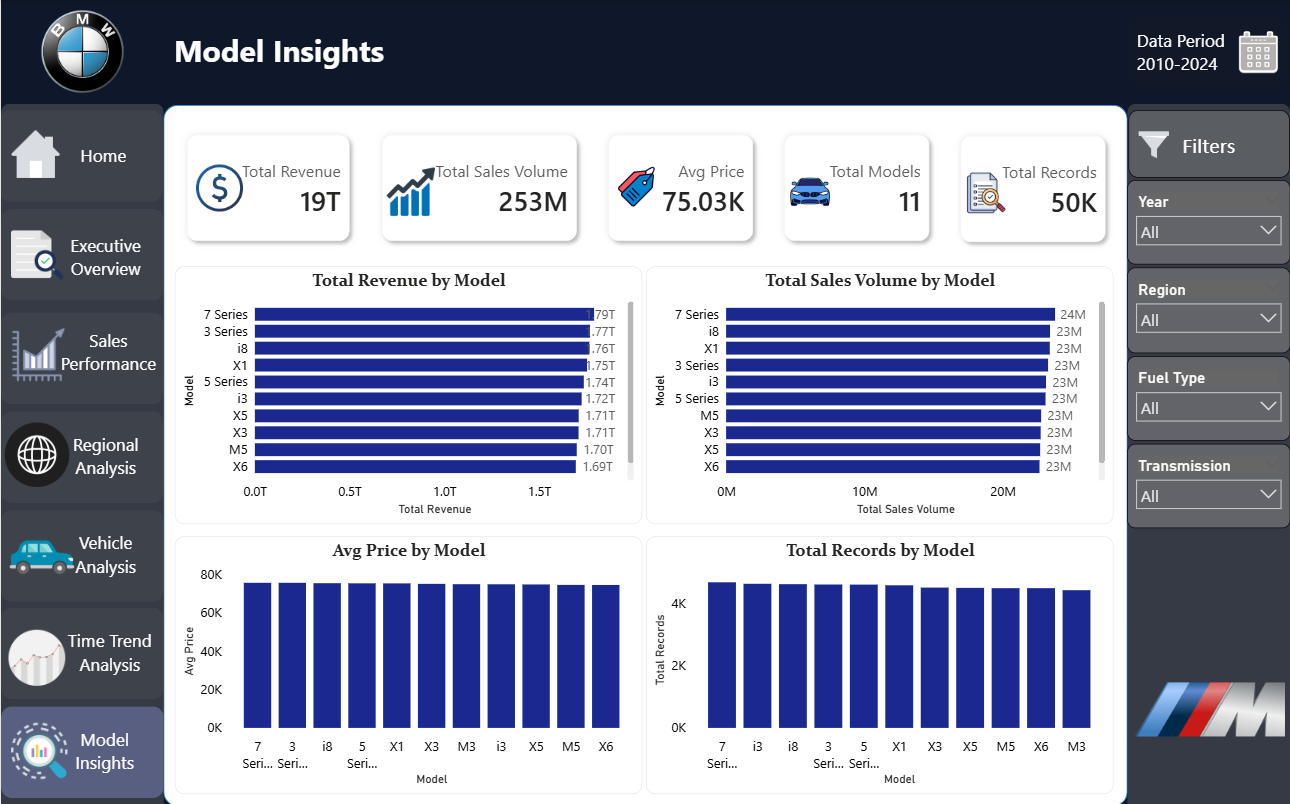

This screenshot's page, from the dashboard's own definition file:
{"tool":"powerbi","page":{"name":"Model Insights","canvas":[1600,1000],"ordinal":6},"visuals":[{"type":"shape","box":[1398,18,200,92],"z":0,"group":"g14"},{"type":"shape","box":[1398,128,202,872],"z":0},{"type":"shape","box":[0,258.8,202,114],"z":0,"group":"g7"},{"type":"shape","box":[-0.3,387.9,202,114],"z":0,"group":"g3"},{"type":"shape","box":[0,510,202,114],"z":0,"group":"g4"},{"type":"shape","box":[0,875.8,202,114],"z":0,"group":"g1"},{"type":"image","box":[1528,38,64,52],"z":1000,"group":"g14"},{"type":"shape","box":[202,130,1196,870],"z":1000},{"type":"actionButton","box":[76,510,108,109],"z":1000,"group":"g4"},{"type":"shape","box":[0,128,202,872],"z":2000},{"type":"image","box":[12.8,275.9,65,80],"z":2000,"group":"g7"},{"type":"image","box":[14.2,399,65,80],"z":2000,"group":"g3"},{"type":"image","box":[4.3,524.1,80,80],"z":2000,"group":"g4"},{"type":"image","box":[12.8,890.9,70,80],"z":2000,"group":"g1"},{"type":"actionButton","box":[76,262.8,108,108],"z":2500,"group":"g7"},{"type":"actionButton","box":[70.2,381,127,109],"z":2500,"group":"g3"},{"type":"actionButton","box":[70,875.8,118,110],"z":2500,"group":"g1"},{"type":"cardVisual","fields":{"Data":["fact_bmw_sales.Total Revenue"]},"box":[202,138,260,190],"z":3000,"group":"g13"},{"type":"clusteredBarChart","fields":{"Category":["fact_bmw_sales.Model"],"Y":["fact_bmw_sales.Total Revenue"]},"box":[216,330,580,320],"z":3000},{"type":"cardVisual","fields":{"Data":["fact_bmw_sales.Total Sales Volume"]},"box":[443,138,300,190],"z":4000,"group":"g12"},{"type":"clusteredColumnChart","fields":{"Category":["fact_bmw_sales.Model"],"Y":["fact_bmw_sales.Avg Price"]},"box":[216,666,580,320],"z":4000},{"type":"cardVisual","fields":{"Data":["fact_bmw_sales.Avg Price"]},"box":[724,138,238,190],"z":5000,"group":"g10"},{"type":"clusteredBarChart","fields":{"Y":["fact_bmw_sales.Total Sales Volume"],"Category":["fact_bmw_sales.Model"]},"box":[800,330,580,320],"z":5000},{"type":"cardVisual","fields":{"Data":["fact_bmw_sales.Total Models"]},"box":[943,138,238,190],"z":6000,"group":"g11"},{"type":"clusteredColumnChart","fields":{"Category":["fact_bmw_sales.Model"],"Y":["fact_bmw_sales.Total Records"]},"box":[800,666,580,320],"z":6000},{"type":"image","box":[0,0,202,128],"z":7000},{"type":"cardVisual","fields":{"Data":["fact_bmw_sales.Total Records"]},"box":[1162,140,238,190],"z":7000,"group":"g9"},{"type":"group","id":"g1","title":"Group 11","box":[0,875.8,202.9,113.2],"z":8000},{"type":"group","id":"g2","title":"Group 12","box":[0,754.4,202.9,113.2],"z":9000},{"type":"group","id":"g3","title":"Group 10","box":[-0.3,381,202,120.9],"z":10000},{"type":"group","id":"g4","title":"Group 14","box":[0,510,202,114],"z":11000},{"type":"group","id":"g5","title":"Group 13","box":[-0.8,136.6,202,114],"z":12000},{"type":"group","id":"g6","title":"Group 9","box":[0,632.2,202,114],"z":13000},{"type":"group","id":"g7","title":"Group 15","box":[0,258.8,202,114],"z":14000},{"type":"slicer","fields":{"Values":["fact_bmw_sales.Year"]},"box":[1398,224,202,105],"z":15000},{"type":"slicer","fields":{"Values":["fact_bmw_sales.Transmission"]},"box":[1398,550,202,105],"z":16000},{"type":"image","box":[475,208,64,60],"z":17000,"group":"g12"},{"type":"slicer","fields":{"Values":["fact_bmw_sales.Region"]},"box":[1398,332.4,202,106],"z":17000},{"type":"textbox","box":[1399.2,136.7,200,84],"z":18000,"group":"g8"},{"type":"slicer","fields":{"Values":["fact_bmw_sales.Fuel_Type"]},"box":[1398,441.7,202,105],"z":18000},{"type":"image","box":[1405.6,153.8,50,50],"z":19000,"group":"g8"},{"type":"image","box":[1406,828,186,104],"z":19000},{"type":"group","id":"g8","title":"Group 16","box":[1399.2,136.7,200,84],"z":20000},{"type":"image","box":[242,200,58,66],"z":20000,"group":"g13"},{"type":"shape","box":[0,632.2,202,114],"z":20007,"group":"g6"},{"type":"shape","box":[0,754.4,202,114],"z":20008,"group":"g2"},{"type":"image","box":[8.5,767.3,70,100],"z":20018,"group":"g2"},{"type":"image","box":[10.7,651.2,80,80],"z":20019,"group":"g6"},{"type":"actionButton","box":[76,754.4,118,110],"z":20518,"group":"g2"},{"type":"actionButton","box":[76,632.2,108,109],"z":20519,"group":"g6"},{"type":"group","id":"g9","title":"Group 1","box":[1162,140,238,190],"z":21000},{"type":"image","box":[978,208,50,60],"z":21000,"group":"g11"},{"type":"group","id":"g10","title":"Group 2","box":[724,138,238,190],"z":22000},{"type":"image","box":[762,202,50,60],"z":22000,"group":"g10"},{"type":"group","id":"g11","title":"Group 3","box":[943,138,238,190],"z":23000},{"type":"group","id":"g12","title":"Group 4","box":[443,138,300,190],"z":24000},{"type":"shape","box":[-0.8,136.6,202,114],"z":25000,"group":"g5"},{"type":"group","id":"g13","title":"Group 5","box":[202,138,260,190],"z":25000},{"type":"textbox","box":[210,32,298,70],"z":26000},{"type":"group","id":"g14","title":"Group 17","box":[1398,18,200,92],"z":27000},{"type":"image","box":[4.3,151.7,80,80],"z":27000,"group":"g5"},{"type":"actionButton","box":[69.2,136.6,118,110],"z":27500,"group":"g5"},{"type":"image","box":[1198,210,50,60],"z":30000,"group":"g9"}]}

Visuals, with their boxes in screenshot pixels (x1, y1, x2, y2), scaled from the page's 1600x1000 canvas onto the 1290x804 screenshot:
shape: box(1127, 14, 1288, 88)
shape: box(1127, 103, 1289, 803)
shape: box(0, 208, 163, 300)
shape: box(0, 312, 163, 404)
shape: box(0, 410, 163, 502)
shape: box(0, 704, 163, 796)
image: box(1232, 31, 1284, 72)
shape: box(163, 105, 1127, 803)
actionButton: box(61, 410, 148, 498)
shape: box(0, 103, 163, 803)
image: box(10, 222, 63, 286)
image: box(11, 321, 64, 385)
image: box(3, 421, 68, 486)
image: box(10, 716, 67, 781)
actionButton: box(61, 211, 148, 298)
actionButton: box(57, 306, 159, 394)
actionButton: box(56, 704, 152, 793)
cardVisual - fact_bmw_sales.Total Revenue: box(163, 111, 372, 264)
clusteredBarChart - fact_bmw_sales.Model x fact_bmw_sales.Total Revenue: box(174, 265, 642, 523)
cardVisual - fact_bmw_sales.Total Sales Volume: box(357, 111, 599, 264)
clusteredColumnChart - fact_bmw_sales.Model x fact_bmw_sales.Avg Price: box(174, 535, 642, 793)
cardVisual - fact_bmw_sales.Avg Price: box(584, 111, 776, 264)
clusteredBarChart - fact_bmw_sales.Total Sales Volume x fact_bmw_sales.Model: box(645, 265, 1113, 523)
cardVisual - fact_bmw_sales.Total Models: box(760, 111, 952, 264)
clusteredColumnChart - fact_bmw_sales.Model x fact_bmw_sales.Total Records: box(645, 535, 1113, 793)
image: box(0, 0, 163, 103)
cardVisual - fact_bmw_sales.Total Records: box(937, 113, 1129, 265)
"Group 11" group: box(0, 704, 164, 795)
"Group 12" group: box(0, 607, 164, 698)
"Group 10" group: box(0, 306, 163, 404)
"Group 14" group: box(0, 410, 163, 502)
"Group 13" group: box(0, 110, 162, 201)
"Group 9" group: box(0, 508, 163, 600)
"Group 15" group: box(0, 208, 163, 300)
slicer - fact_bmw_sales.Year: box(1127, 180, 1289, 265)
slicer - fact_bmw_sales.Transmission: box(1127, 442, 1289, 527)
image: box(383, 167, 435, 215)
slicer - fact_bmw_sales.Region: box(1127, 267, 1289, 352)
textbox: box(1128, 110, 1289, 177)
slicer - fact_bmw_sales.Fuel_Type: box(1127, 355, 1289, 440)
image: box(1133, 124, 1174, 164)
image: box(1134, 666, 1284, 749)
"Group 16" group: box(1128, 110, 1289, 177)
image: box(195, 161, 242, 214)
shape: box(0, 508, 163, 600)
shape: box(0, 607, 163, 698)
image: box(7, 617, 63, 697)
image: box(9, 524, 73, 588)
actionButton: box(61, 607, 156, 695)
actionButton: box(61, 508, 148, 596)
"Group 1" group: box(937, 113, 1129, 265)
image: box(789, 167, 829, 215)
"Group 2" group: box(584, 111, 776, 264)
image: box(614, 162, 655, 211)
"Group 3" group: box(760, 111, 952, 264)
"Group 4" group: box(357, 111, 599, 264)
shape: box(0, 110, 162, 201)
"Group 5" group: box(163, 111, 372, 264)
textbox: box(169, 26, 410, 82)
"Group 17" group: box(1127, 14, 1288, 88)
image: box(3, 122, 68, 186)
actionButton: box(56, 110, 151, 198)
image: box(966, 169, 1006, 217)
